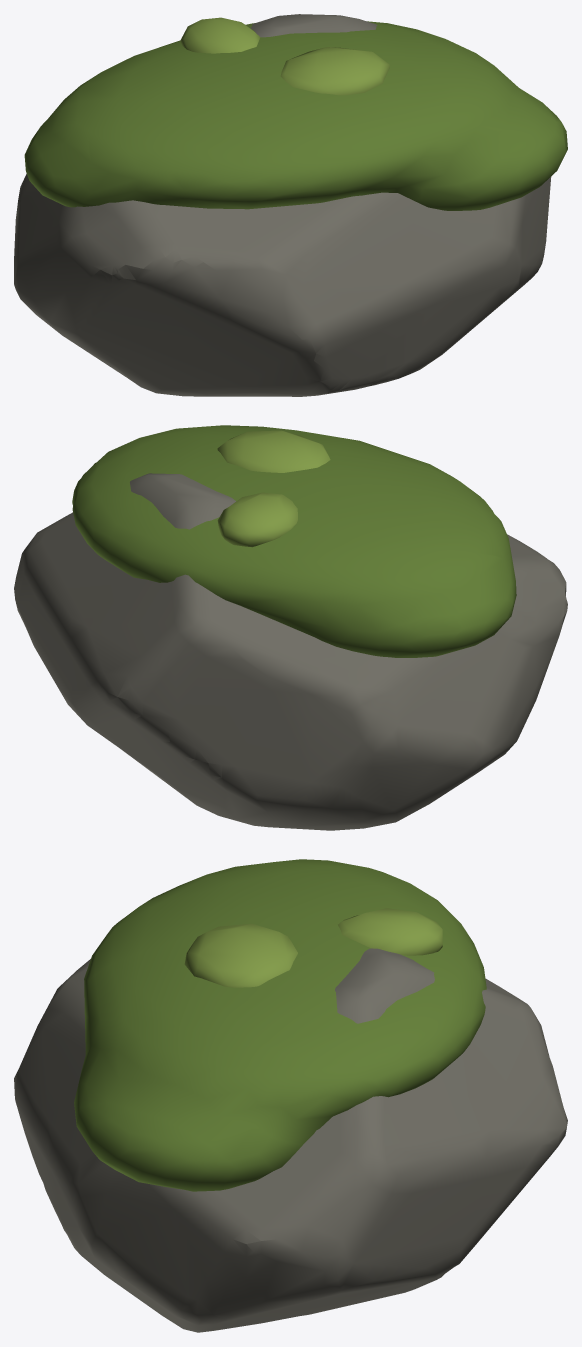
File: mossrock.glb
The picture shows the model from 3 angles, top to bottom: view 1: azimuth 30°, elevation 25°; view 2: azimuth 150°, elevation 25°; view 3: azimuth 270°, elevation 25°; orthographic projection. The views are drawn at different scales.
Parts seen in each view (by area): view 1: rock0, moss1, moss22, moss25; view 2: rock0, moss1, moss22, moss25; view 3: rock0, moss1, moss22, moss25.
Part boxes in pixels (box(x1,y1,x2,y2)): rock0: box(14, 14, 551, 396); moss1: box(24, 21, 567, 210); moss22: box(280, 47, 389, 95); moss25: box(180, 17, 260, 53); rock0: box(14, 473, 567, 830); moss1: box(72, 425, 516, 657); moss22: box(217, 430, 330, 472); moss25: box(217, 492, 297, 547); rock0: box(14, 948, 567, 1332); moss1: box(74, 859, 486, 1191); moss22: box(184, 923, 297, 987); moss25: box(338, 908, 442, 955).
Bounding box in the file's own units: 1.55 × 0.9759 × 1.31.
